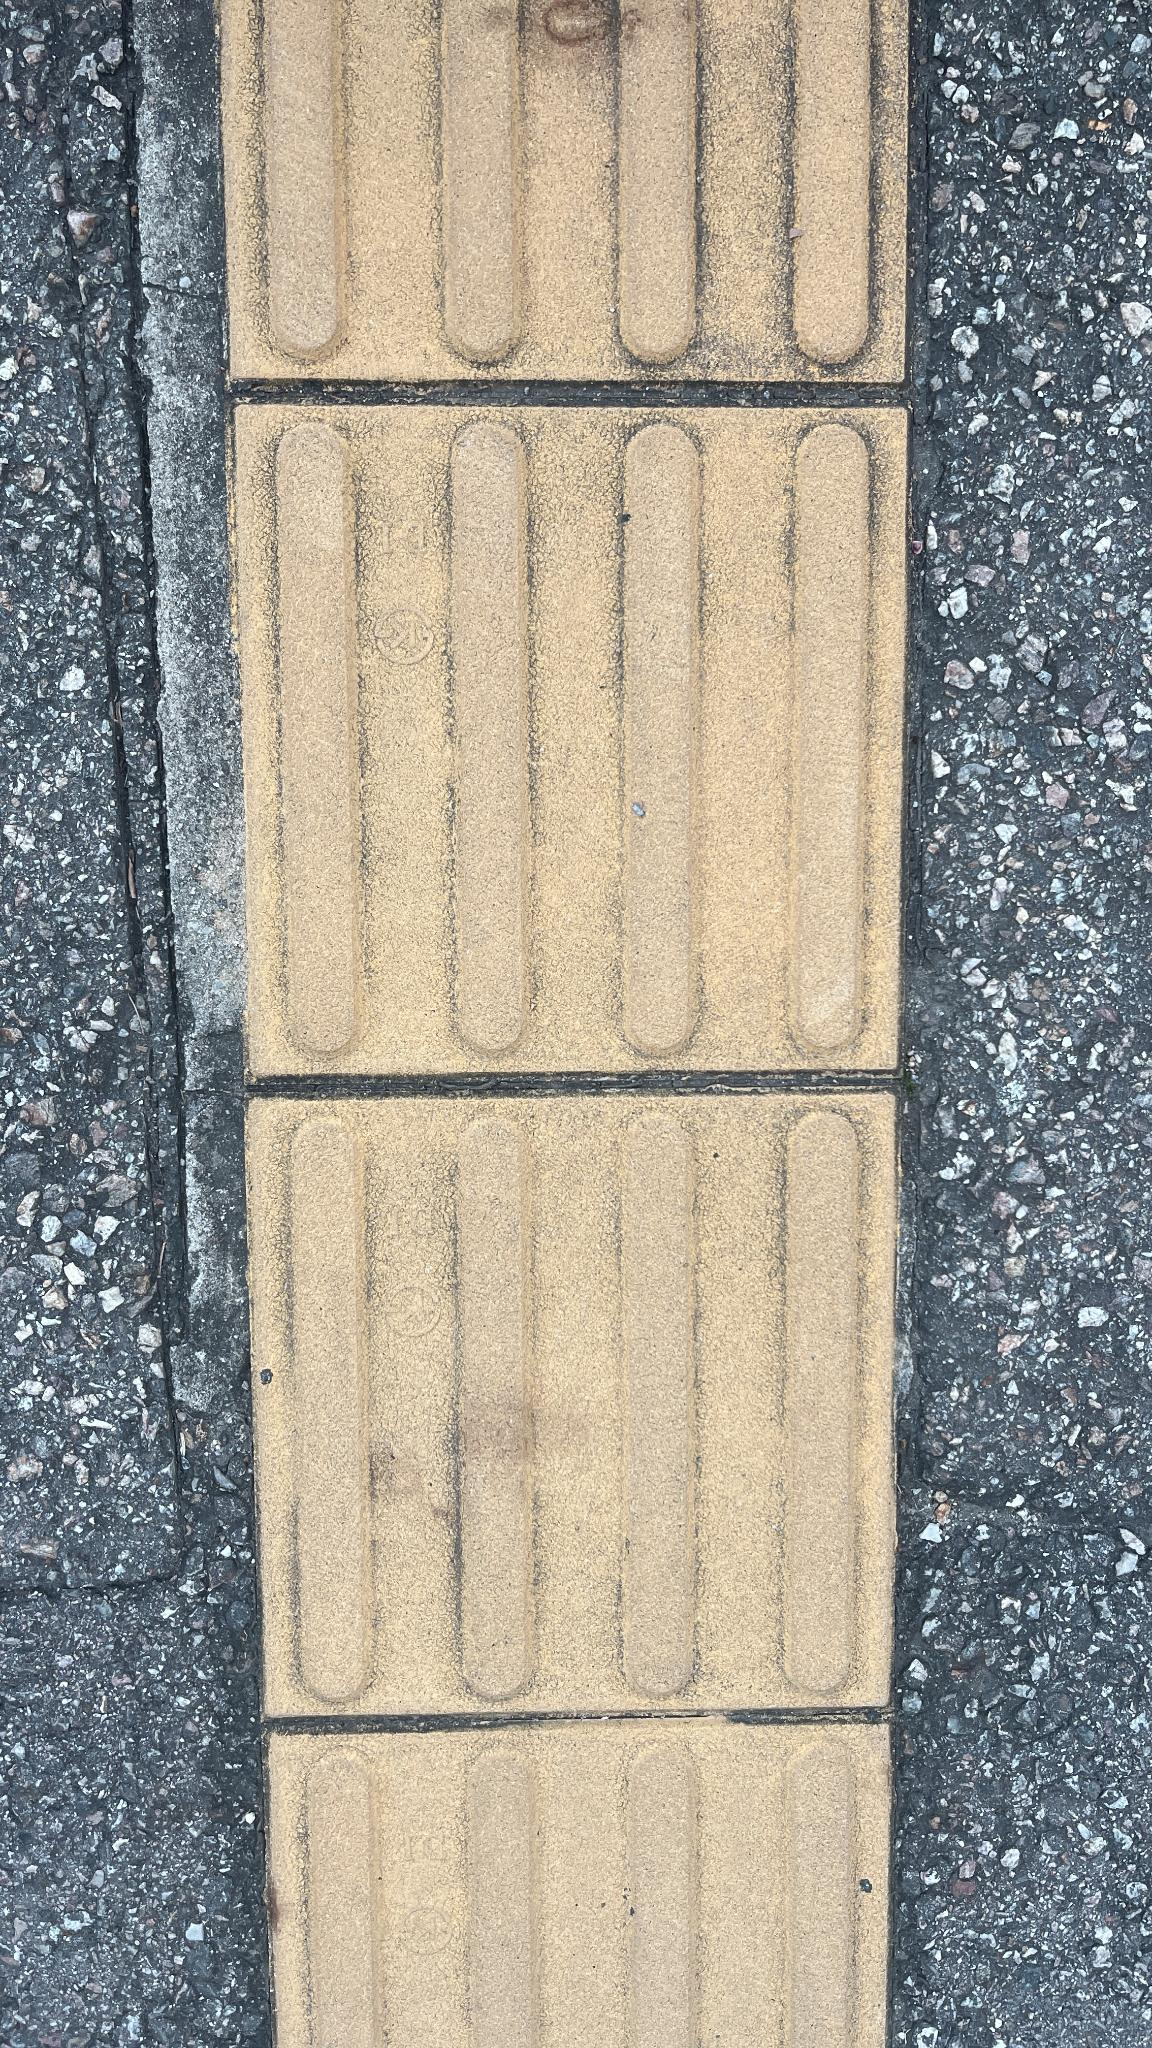Straight block normal: (242, 409, 900, 1062), (255, 1094, 890, 1716)
